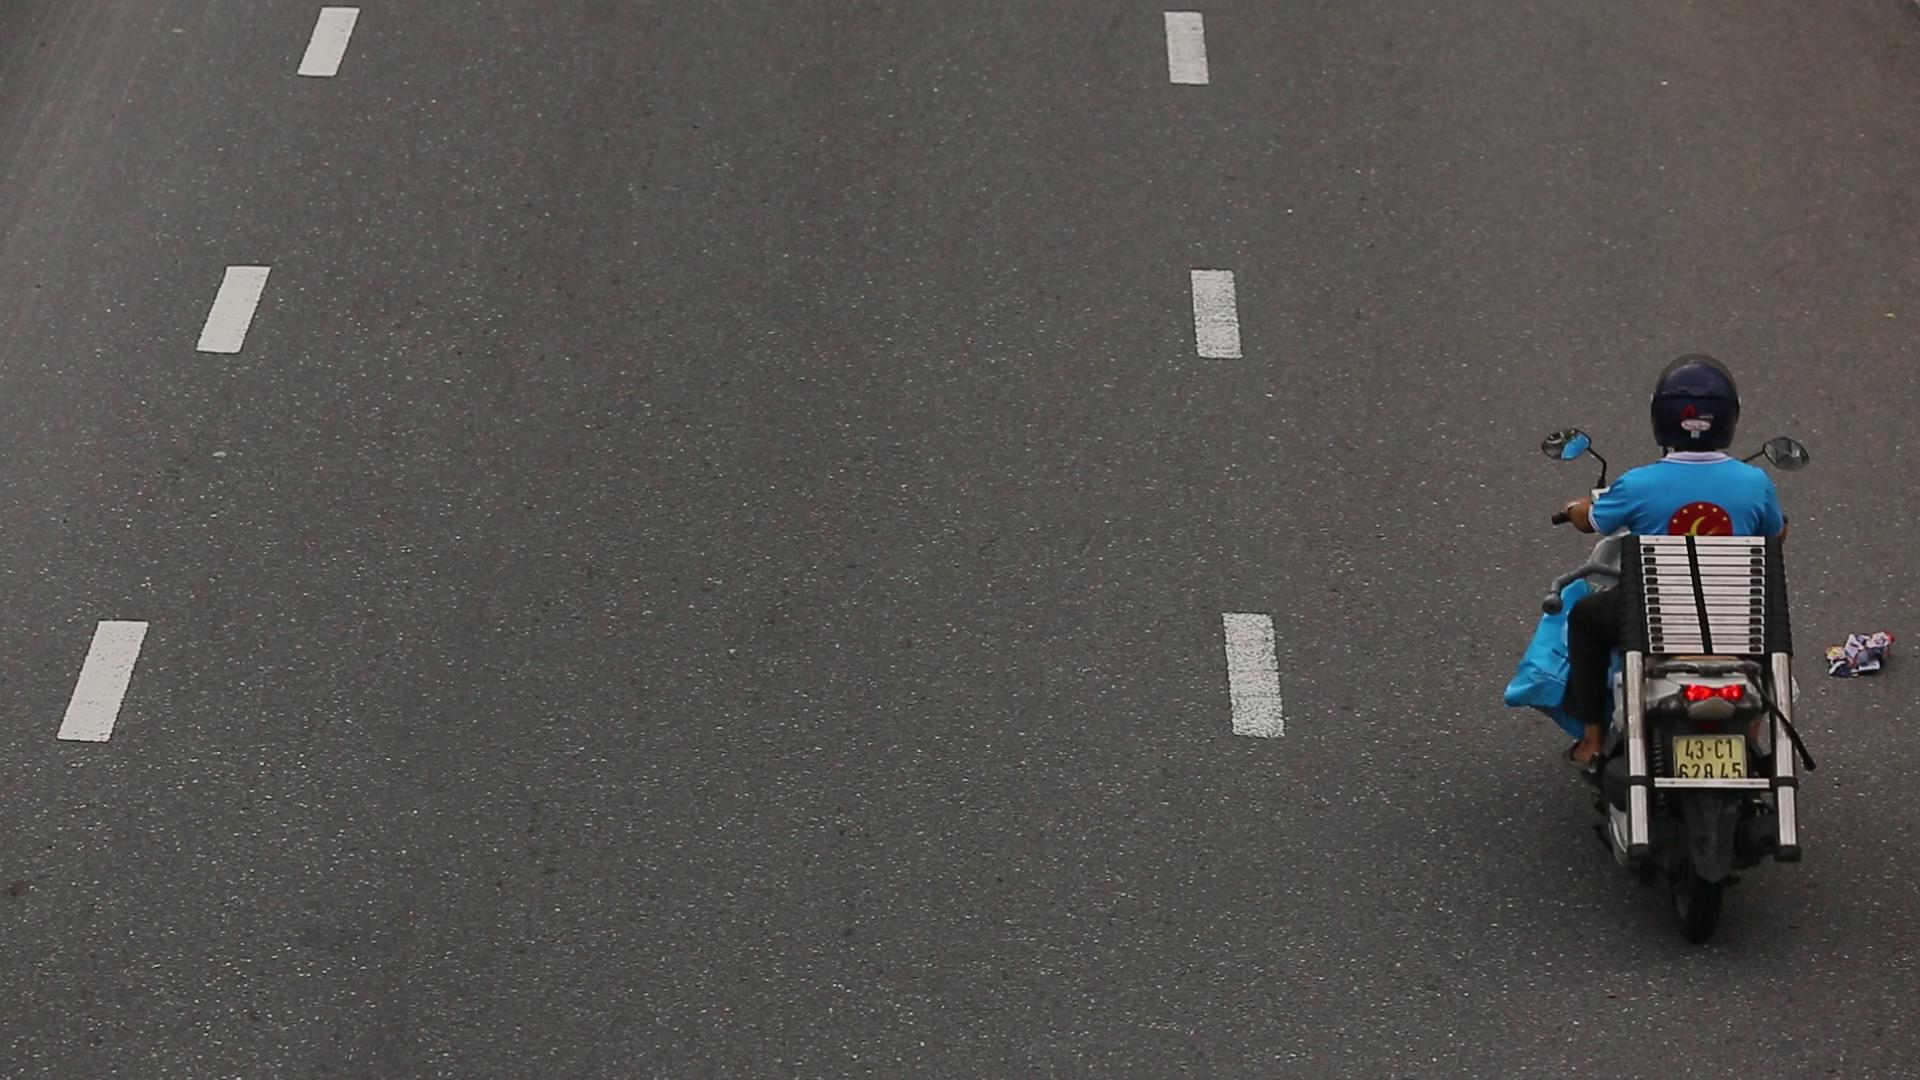motobike: (1527, 338, 1846, 959)
